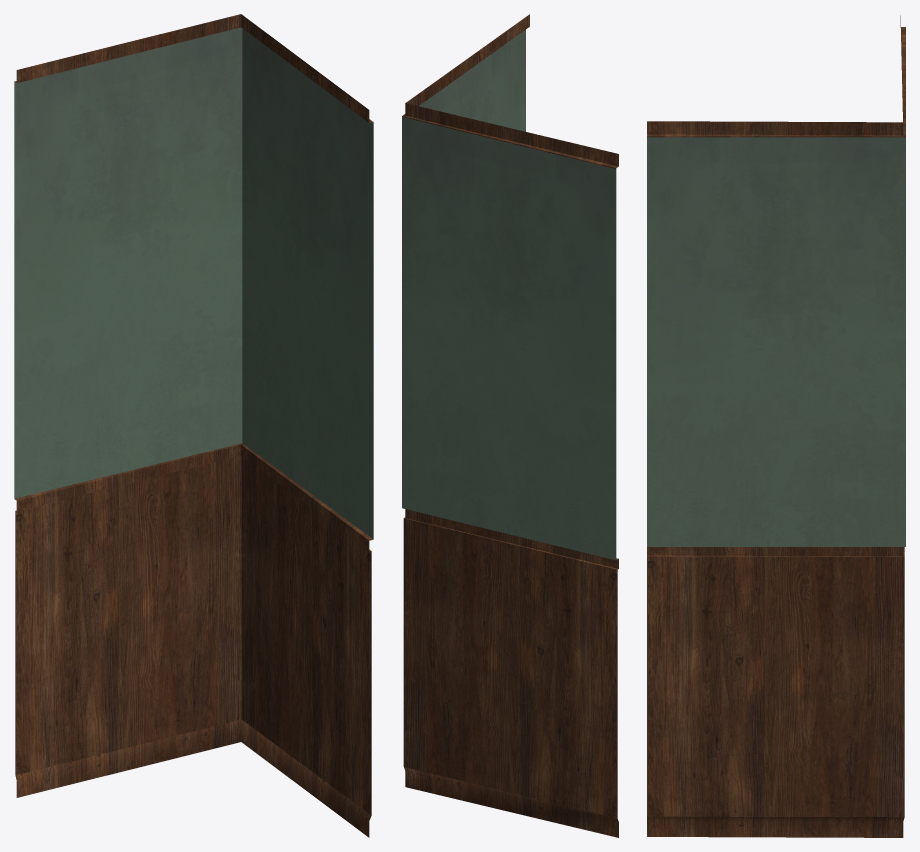
Rendered from RecCorCloW.fbx.
The picture shows the model from 3 angles, left to right: view 1: azimuth 30°, elevation 25°; view 2: azimuth 150°, elevation 25°; view 3: azimuth 270°, elevation 25°; orthographic projection. The views are drawn at different scales.
Visible parts, largest first — view 1: ClosedCorner; view 2: ClosedCorner; view 3: ClosedCorner.
Part boxes in pixels (<box>): ClosedCorner: <box>14,14,373,837</box>; ClosedCorner: <box>402,14,618,837</box>; ClosedCorner: <box>647,15,905,837</box>.
Bounding box in the file's own units: 99.98 × 305 × 99.98.
1 material, 1 textured.
